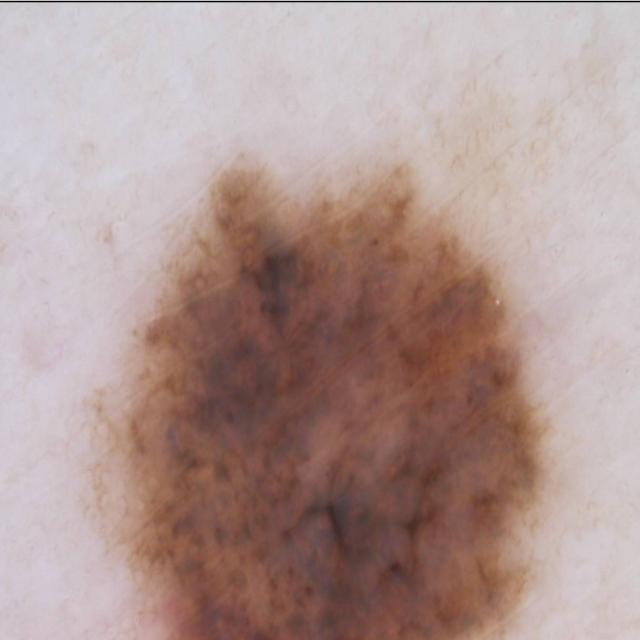Melanoma: (84, 151, 629, 640)
